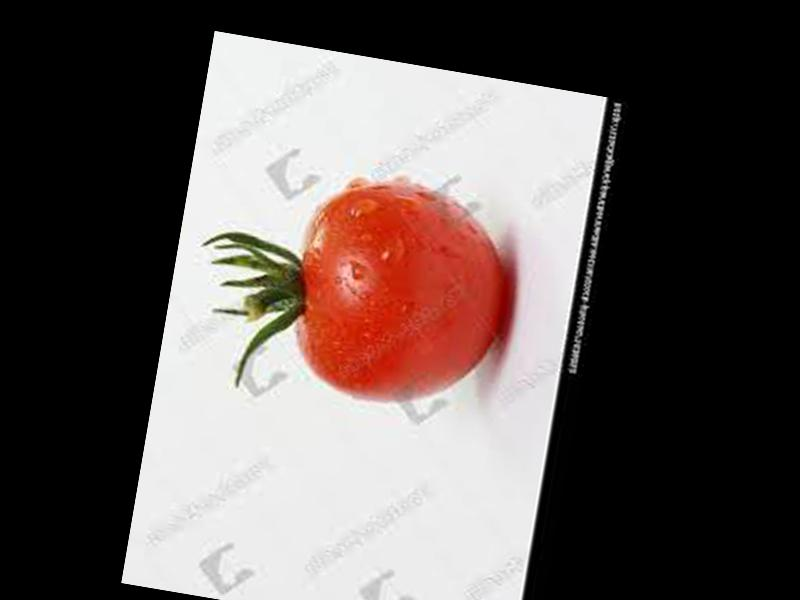Tomato: (281, 173, 522, 420)
